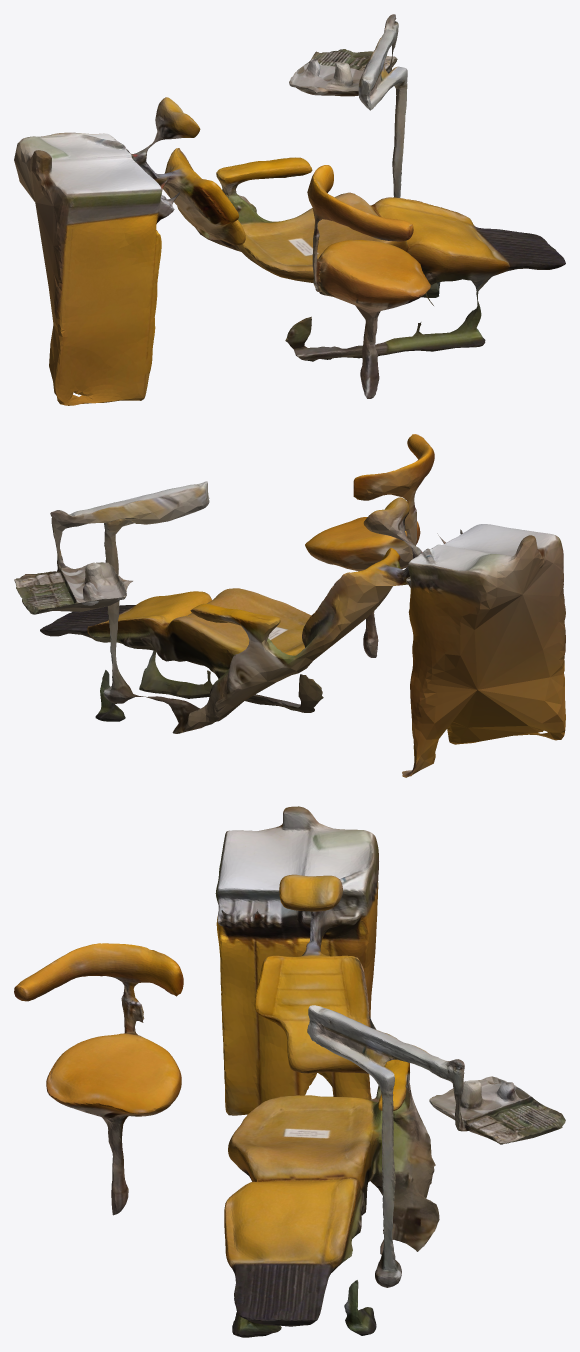
File: karekla1.fbx
The picture shows the model from 3 angles, top to bottom: view 1: azimuth 30°, elevation 25°; view 2: azimuth 150°, elevation 25°; view 3: azimuth 270°, elevation 25°; orthographic projection. The views are drawn at different scales.
Visible parts, largest first — view 1: Kar1; view 2: Kar1; view 3: Kar1.
Part boxes in pixels (bbox=[...]): Kar1: bbox=[14, 14, 565, 405]; Kar1: bbox=[14, 434, 565, 777]; Kar1: bbox=[14, 806, 565, 1337].
Bounding box in the file's own units: 106 × 55.3 × 87.69.
